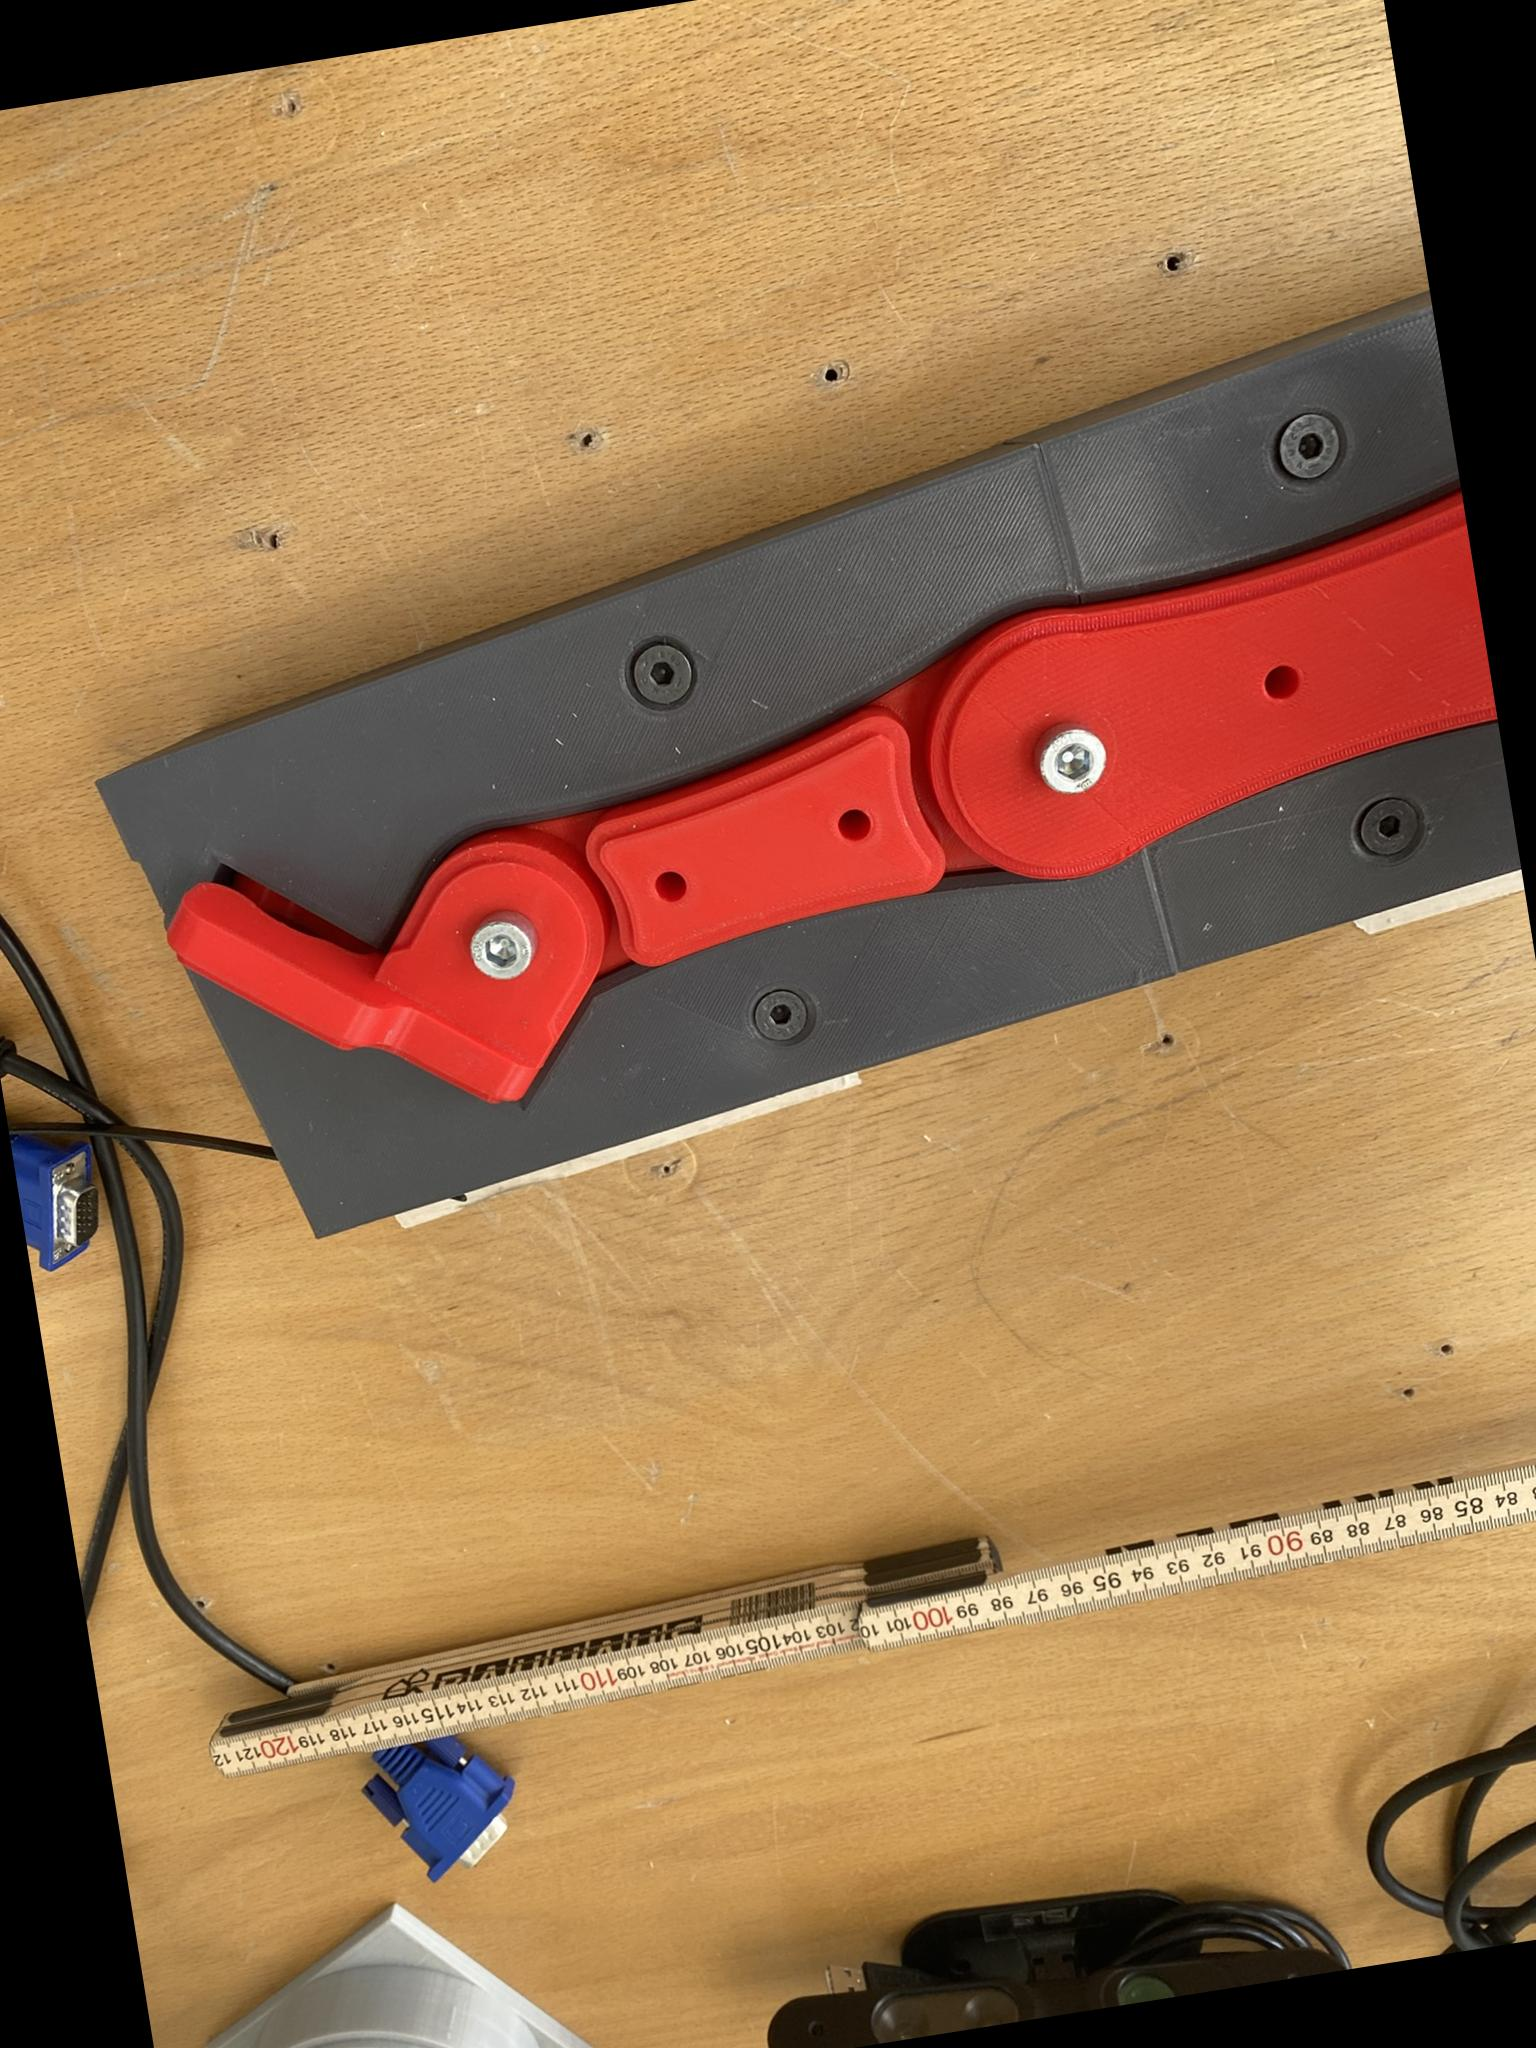H: (460, 908, 541, 989), (1034, 721, 1113, 800), (623, 635, 695, 711), (1273, 406, 1342, 485), (1350, 792, 1425, 858), (747, 982, 812, 1045)
